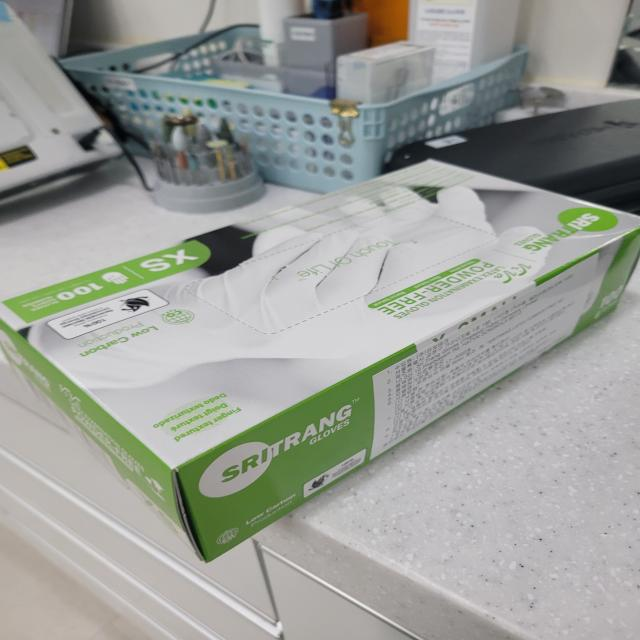glove: (3, 154, 640, 570)
